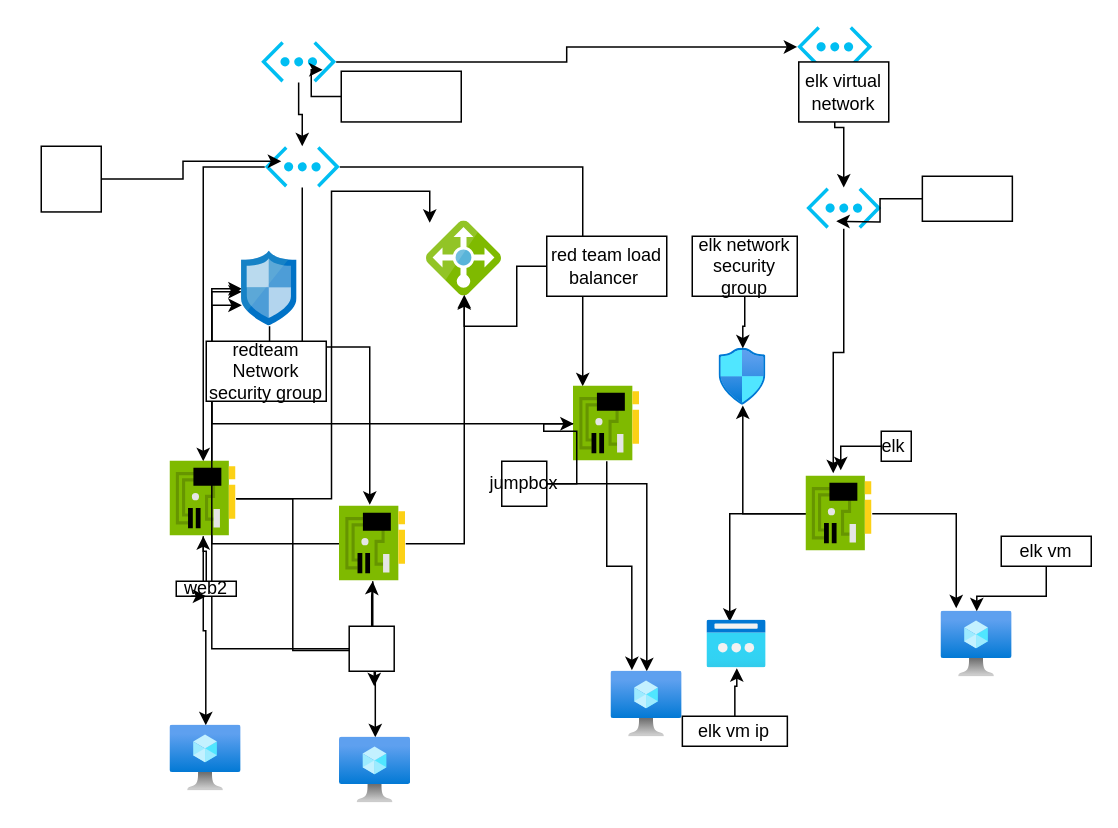
Image size: 1118x828. Some labels were removed from this diagram. The box of each missing label's shape, as (x1, y1, x2, y2) in pixels:
rednet virtual network: (340, 70, 461, 122)
subnets 10.1.0.0/24: (921, 175, 1012, 221)
subnets: 10.0.0.0/24: (40, 145, 101, 212)
web1: (348, 625, 394, 671)
